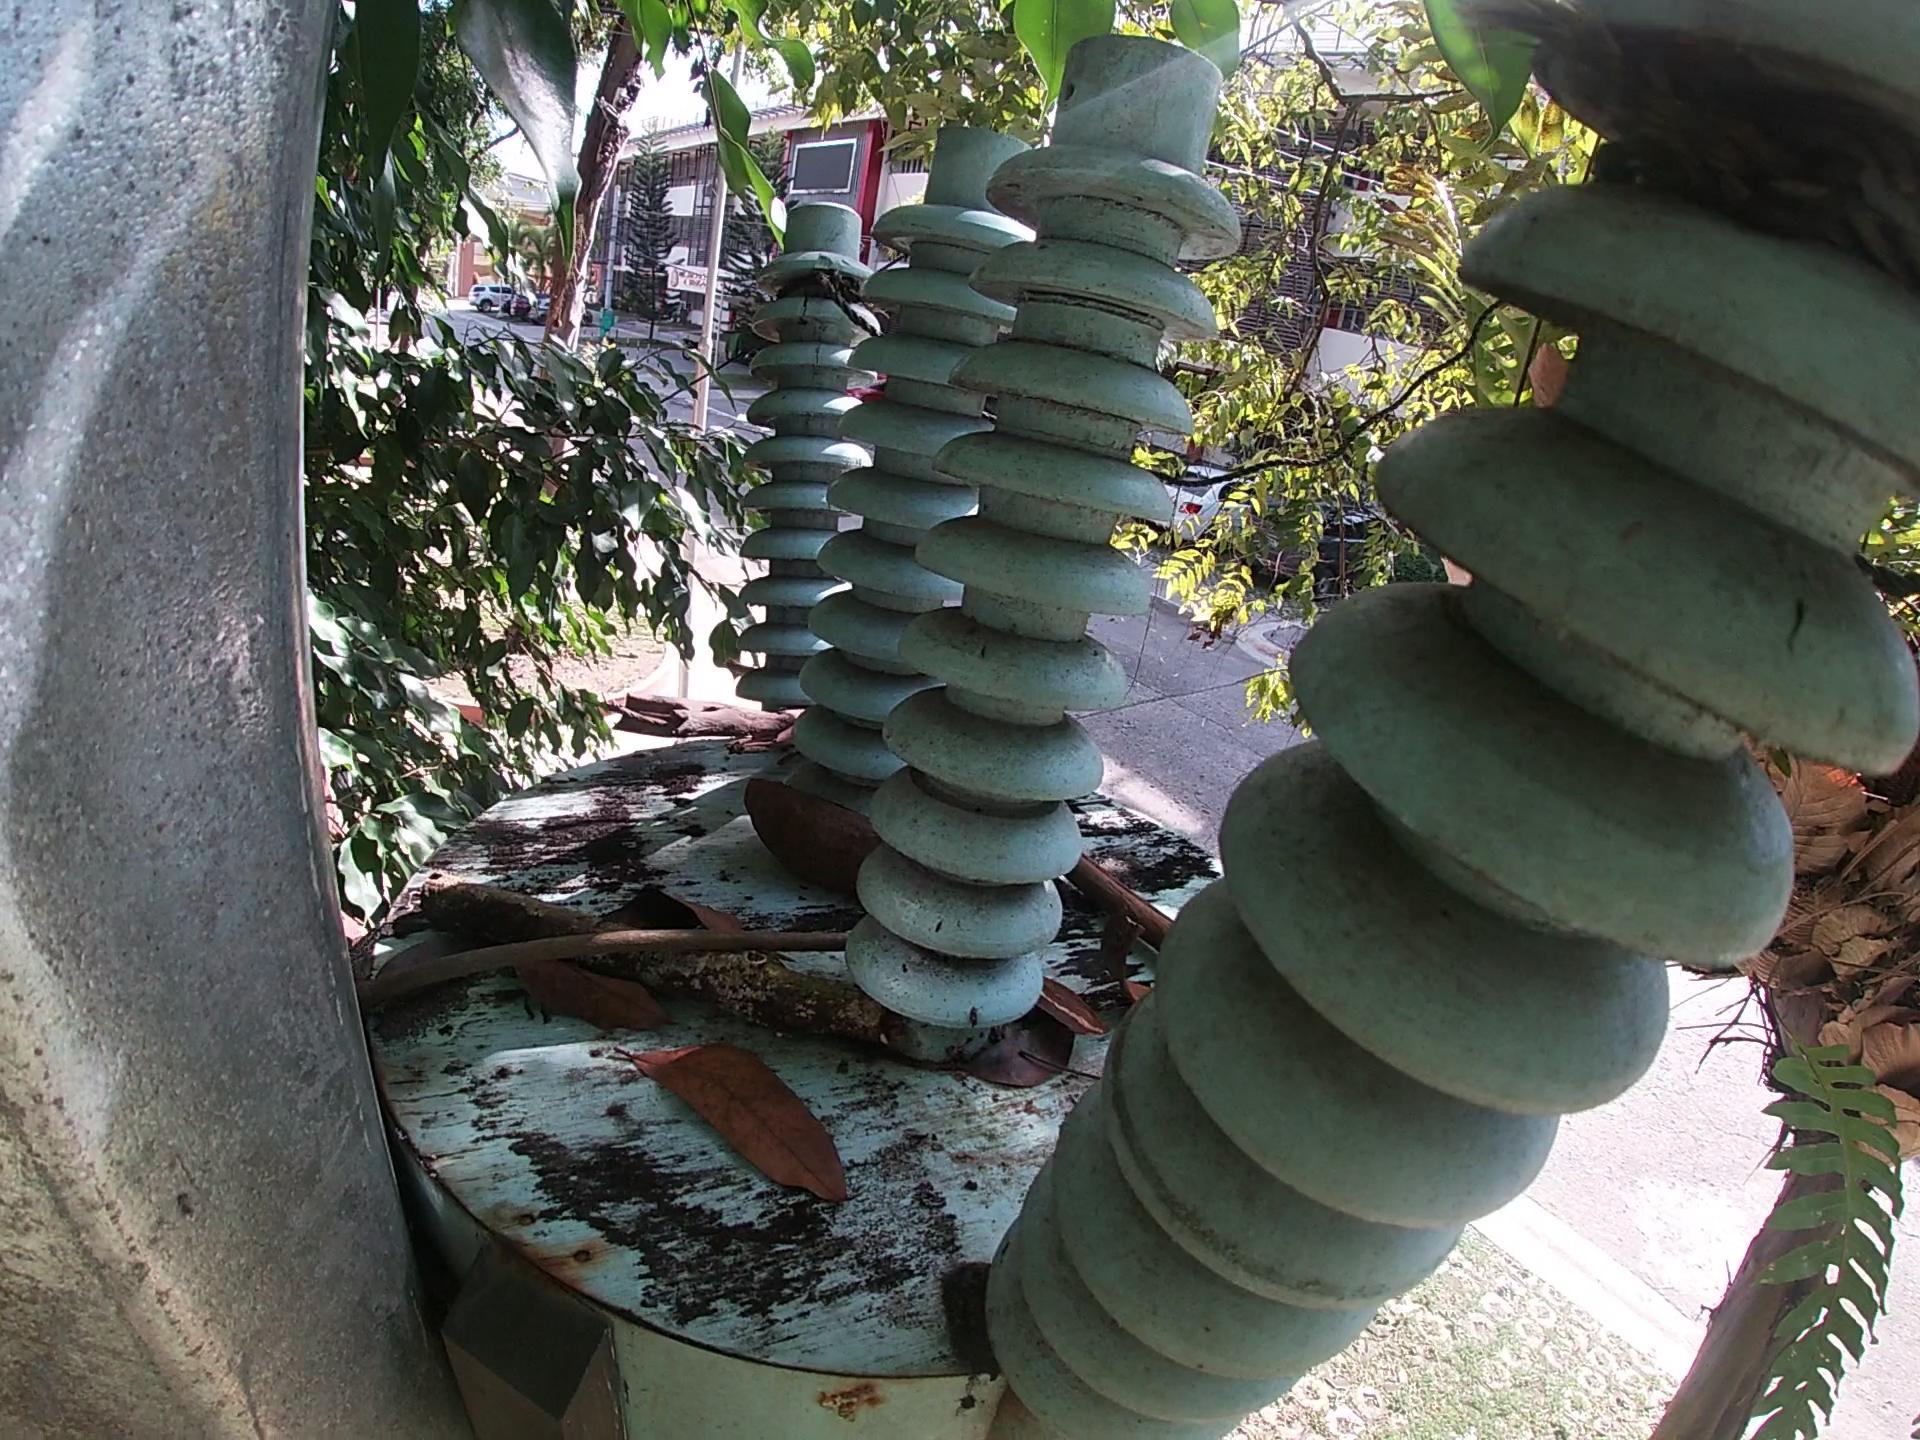leaf: (609, 1041, 862, 1219), (513, 956, 674, 1032), (931, 1026, 1076, 1095), (594, 889, 759, 933)
mahogany fruit: (741, 771, 884, 900), (1099, 902, 1154, 1004), (1033, 976, 1107, 1041)
tree branch: (414, 868, 887, 1057), (349, 930, 854, 1018), (605, 687, 801, 764), (1066, 852, 1175, 954)
